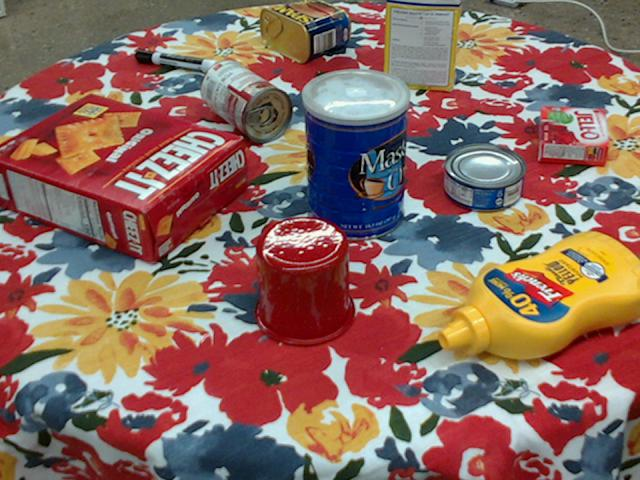cracker_box: (0, 94, 248, 262)
gelatin_box: (538, 107, 607, 167)
large_marker: (136, 49, 219, 73)
master_chef_can: (301, 68, 409, 242)
mug: (253, 215, 356, 346)
mustard_bottle: (440, 228, 639, 357)
potted_meat_can: (260, 0, 351, 62)
sugar_box: (382, 0, 462, 92)
tomato_soup_can: (200, 59, 293, 142)
tuna_fish_can: (445, 144, 527, 212)
